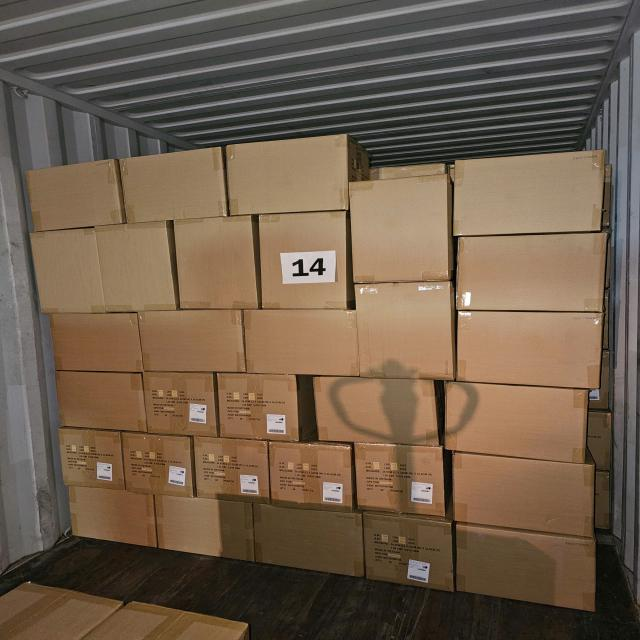Carton: (461, 144, 608, 234), (461, 524, 601, 614), (38, 226, 178, 316), (458, 447, 599, 535), (463, 237, 609, 316), (454, 311, 602, 388), (452, 382, 590, 464), (357, 181, 454, 286), (361, 278, 458, 376), (231, 134, 347, 214), (316, 379, 446, 449), (259, 215, 351, 312), (253, 506, 364, 580), (243, 309, 359, 377), (175, 218, 256, 311), (360, 513, 452, 593), (122, 151, 223, 223), (356, 443, 448, 521), (158, 498, 257, 568), (28, 163, 122, 233), (144, 310, 246, 374), (268, 442, 354, 513), (48, 312, 142, 374), (214, 374, 298, 443), (57, 372, 148, 434), (70, 490, 159, 551), (191, 438, 270, 504), (145, 372, 221, 438), (120, 434, 192, 500), (56, 430, 123, 492)
